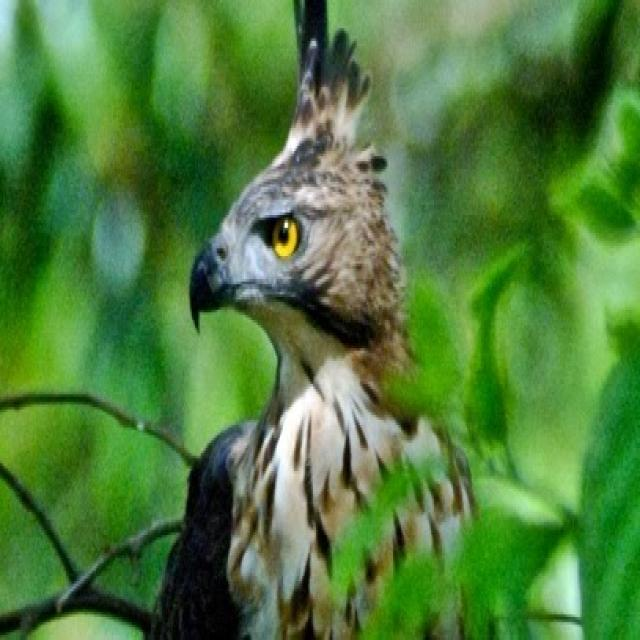Elang Jawa: (124, 0, 495, 640)
